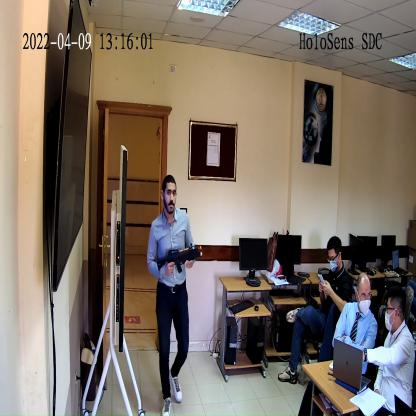handgun: (156, 242, 201, 273)
